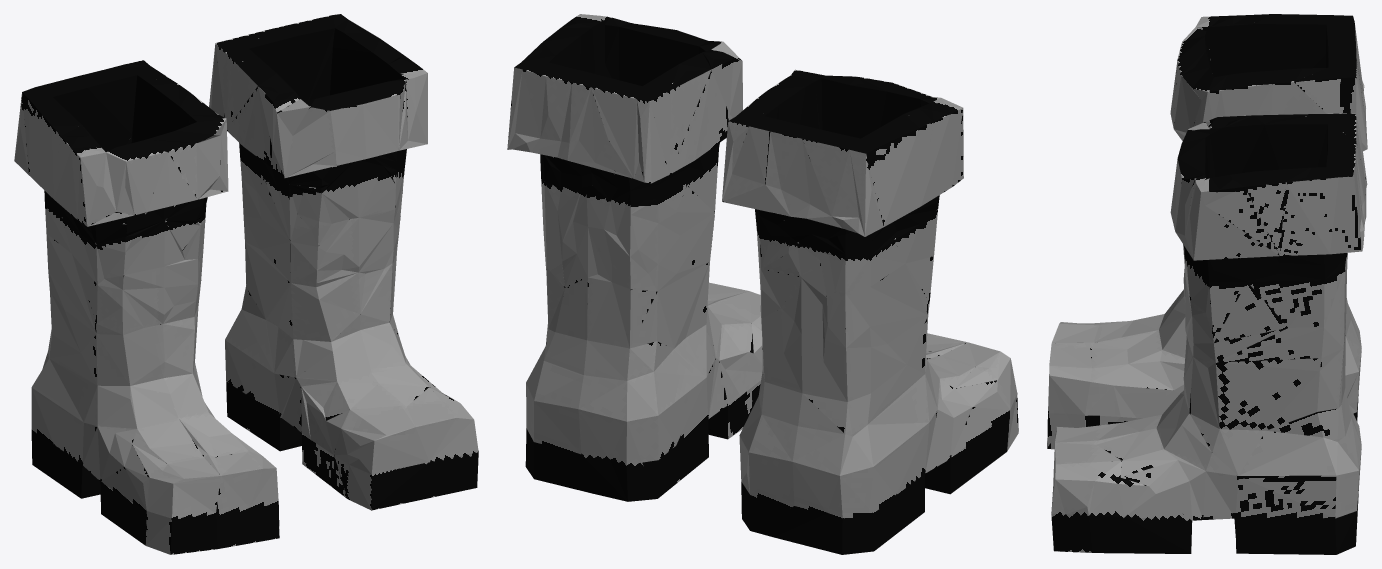
The picture shows the model from 3 angles, left to right: view 1: azimuth 30°, elevation 25°; view 2: azimuth 150°, elevation 25°; view 3: azimuth 270°, elevation 25°; orthographic projection. The views are drawn at different scales.
Visible parts, largest first — view 1: OBJ02a; view 2: OBJ02a; view 3: OBJ02a.
Boxes of the visible parts, <box> form: OBJ02a: <box>14,14,478,554</box>; OBJ02a: <box>507,14,1018,554</box>; OBJ02a: <box>1047,14,1367,554</box>.
Size of the model in its own units: 0.2435 by 0.2464 by 0.188.
Materials: 1 (1 with a texture image).
